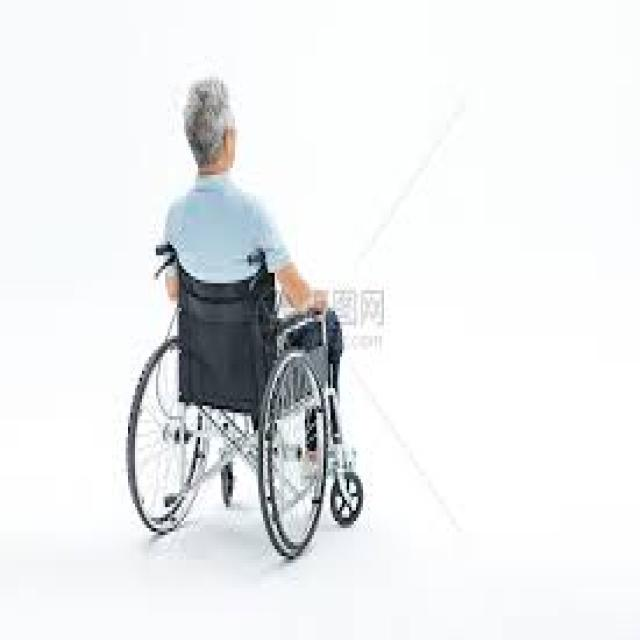wheelchairs: (121, 235, 370, 560)
